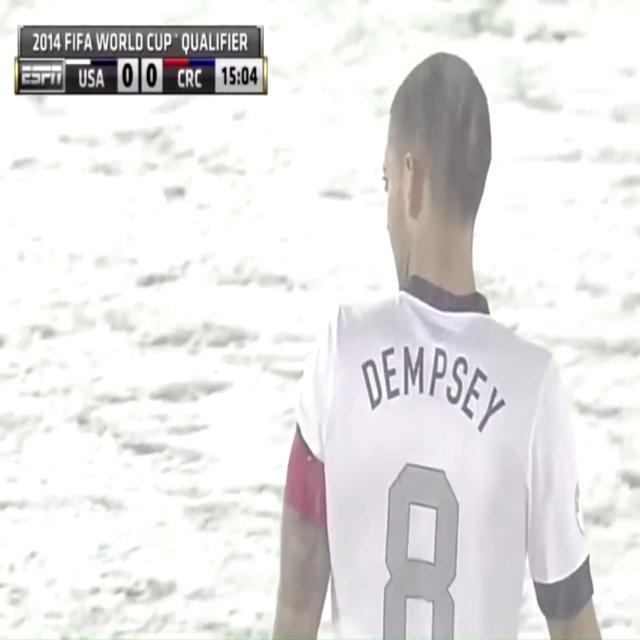player: (231, 0, 611, 640)
